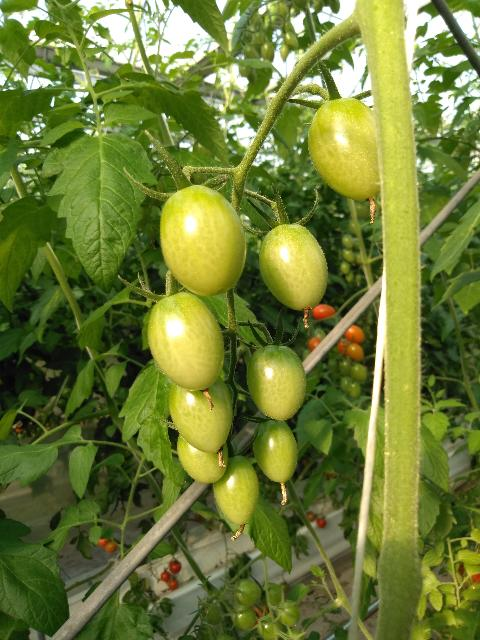l_green: (159, 184, 247, 296), (307, 98, 382, 202), (147, 292, 225, 392), (260, 224, 328, 311), (169, 376, 234, 455), (247, 345, 306, 422), (212, 455, 259, 525), (252, 419, 298, 483), (177, 433, 229, 484), (235, 579, 262, 606), (231, 605, 257, 631), (276, 599, 301, 626), (256, 615, 282, 640)
